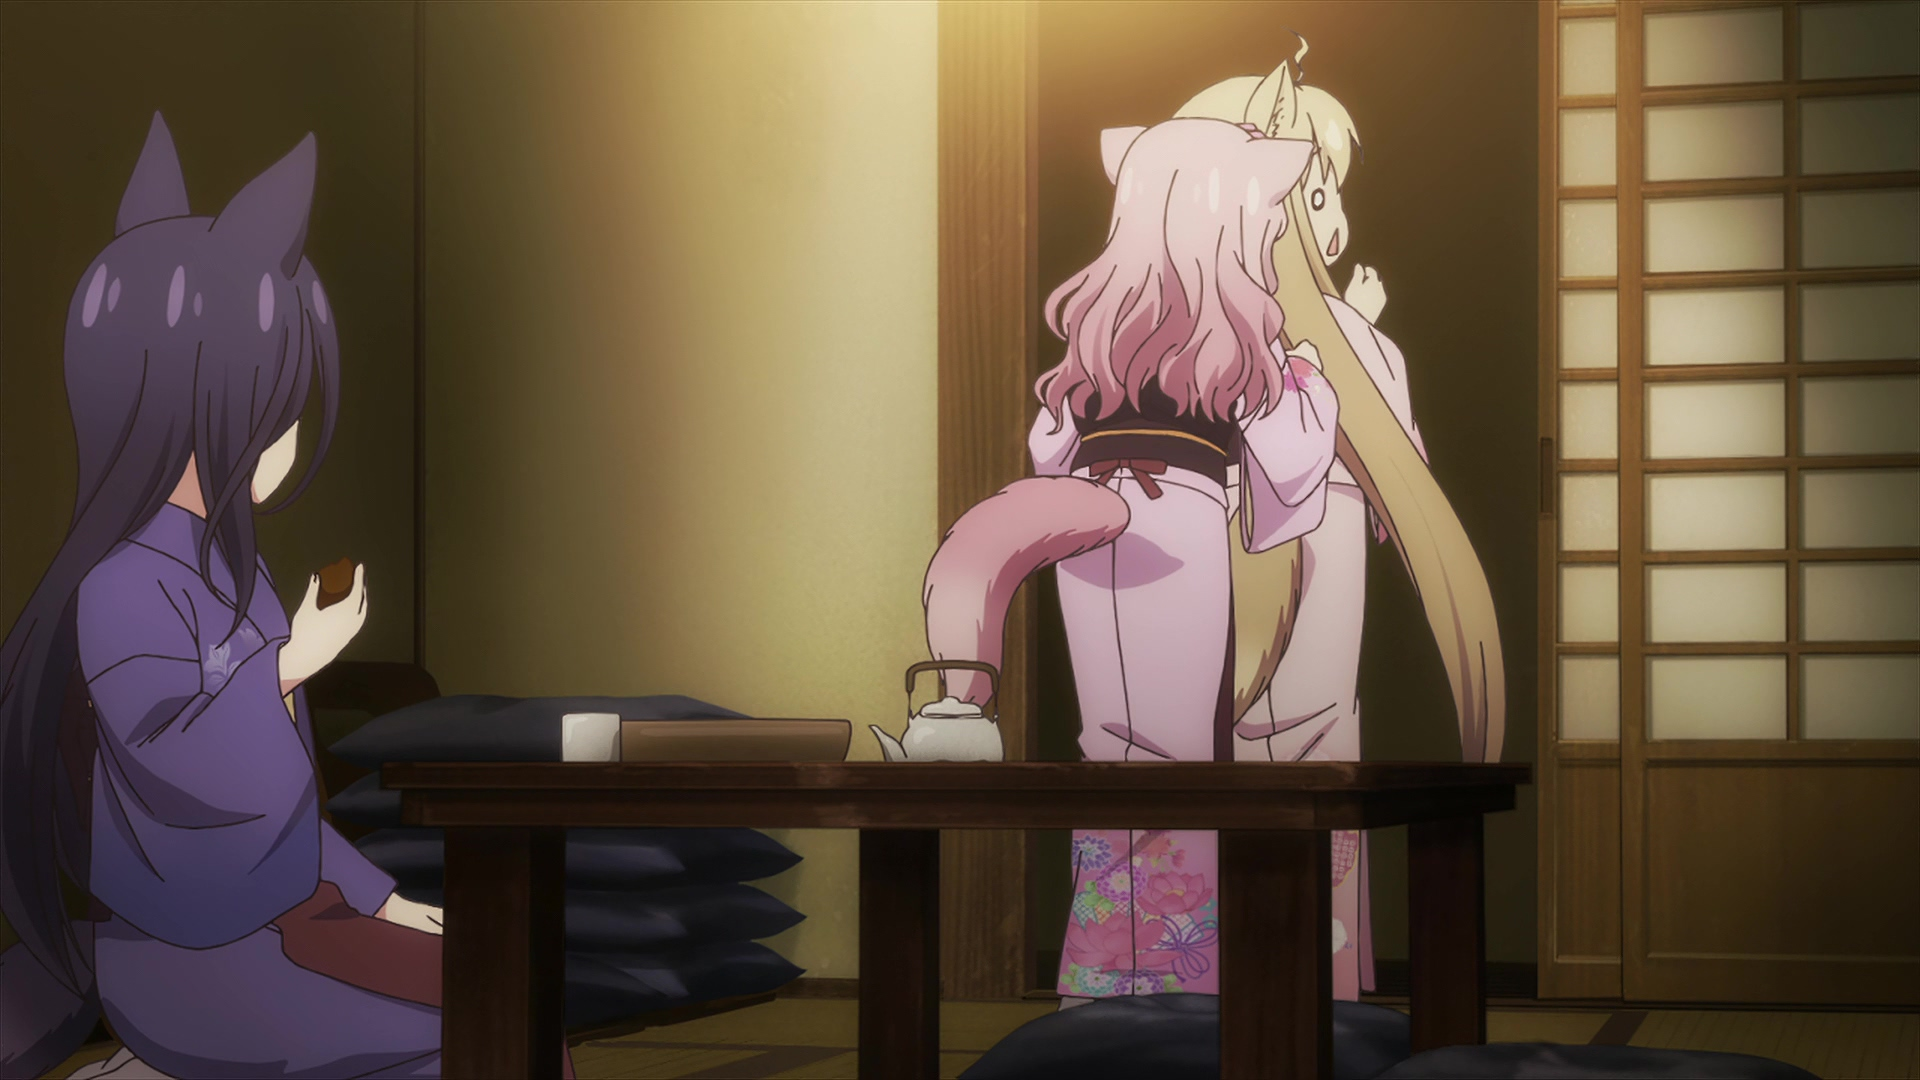柚: (1168, 40, 1509, 1000)
皋: (1, 111, 444, 1080)
莲: (922, 116, 1338, 1015)
